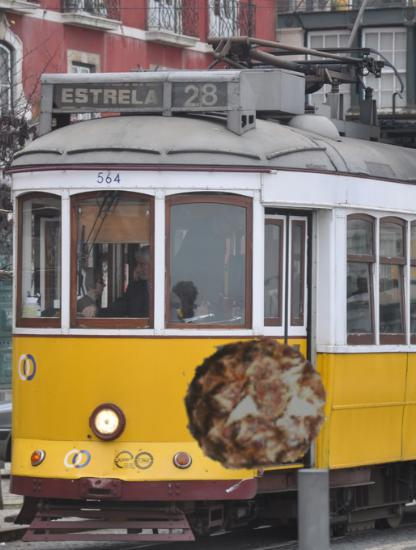Pineapple: (183, 331, 331, 479)
